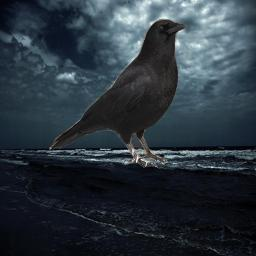Crow: (49, 16, 189, 169)
